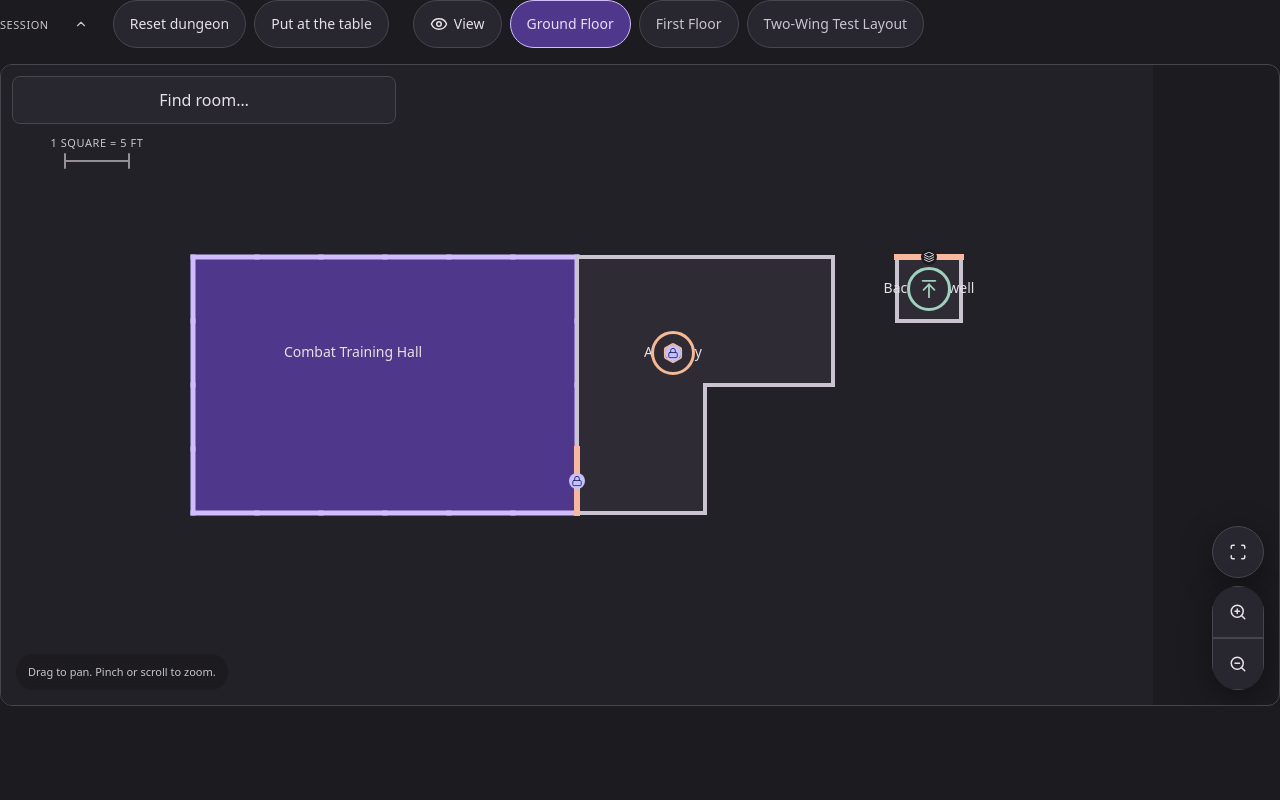
Scenario: MapLabPage (Stage 03 — viewer status chip action failures) › ConfirmDialog still appears after a reset failure
Click the button "Reset dungeon".
click(180, 24)  # box top-left (113, 0), bottom-right (246, 48)
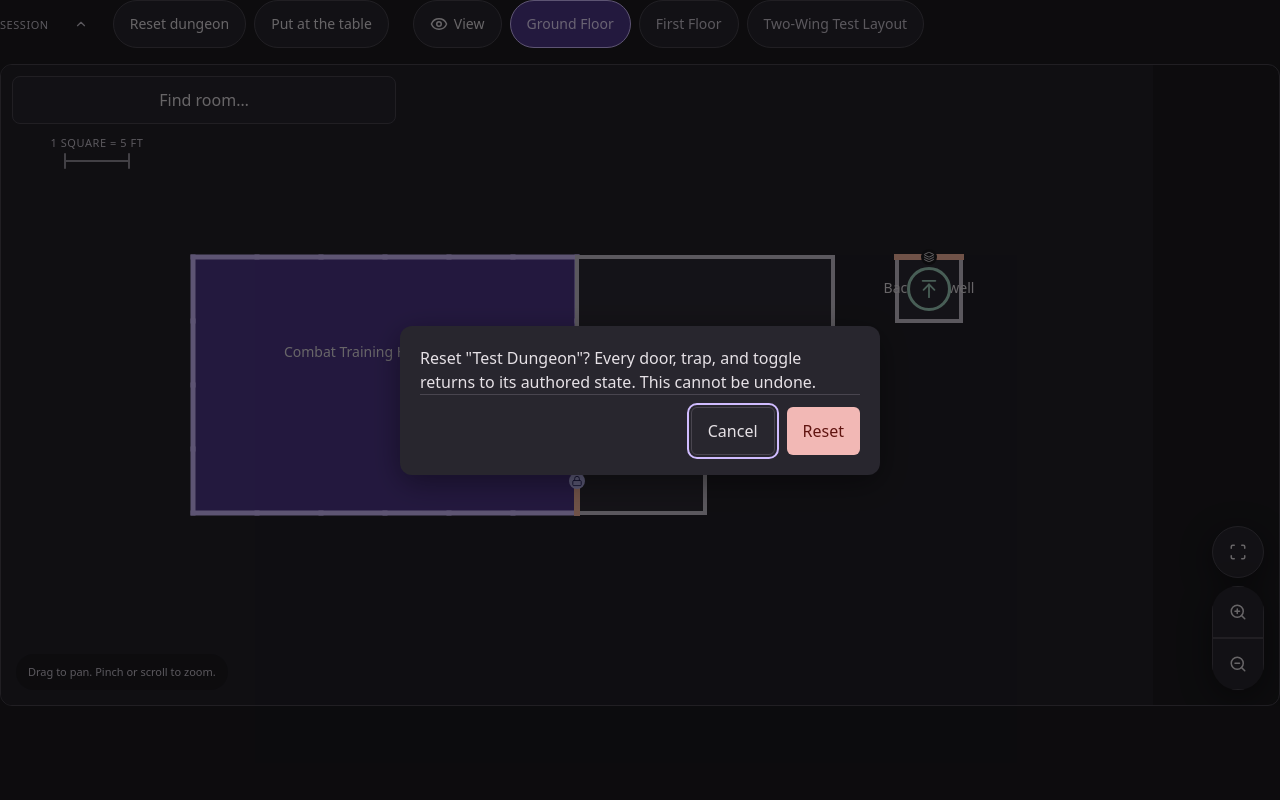
Click the button "Reset".
click(823, 430)  # box top-left (786, 406), bottom-right (860, 454)
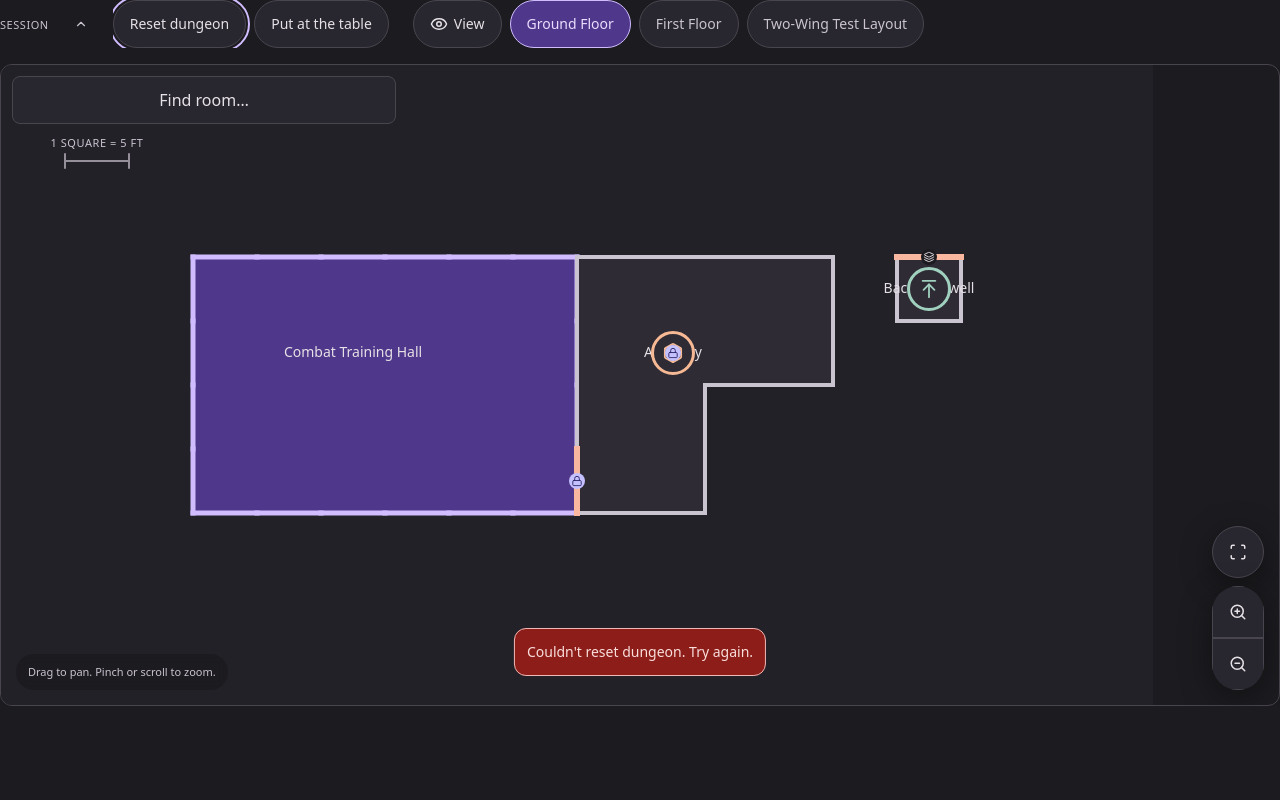
Result: the text "Couldn't reset dungeon. Try again." is shown at top-left (514, 628), bottom-right (766, 676)
Click reset again — ConfirmDialog re-appears
Click the button "Reset dungeon".
click(180, 24)  # box top-left (113, 0), bottom-right (246, 48)
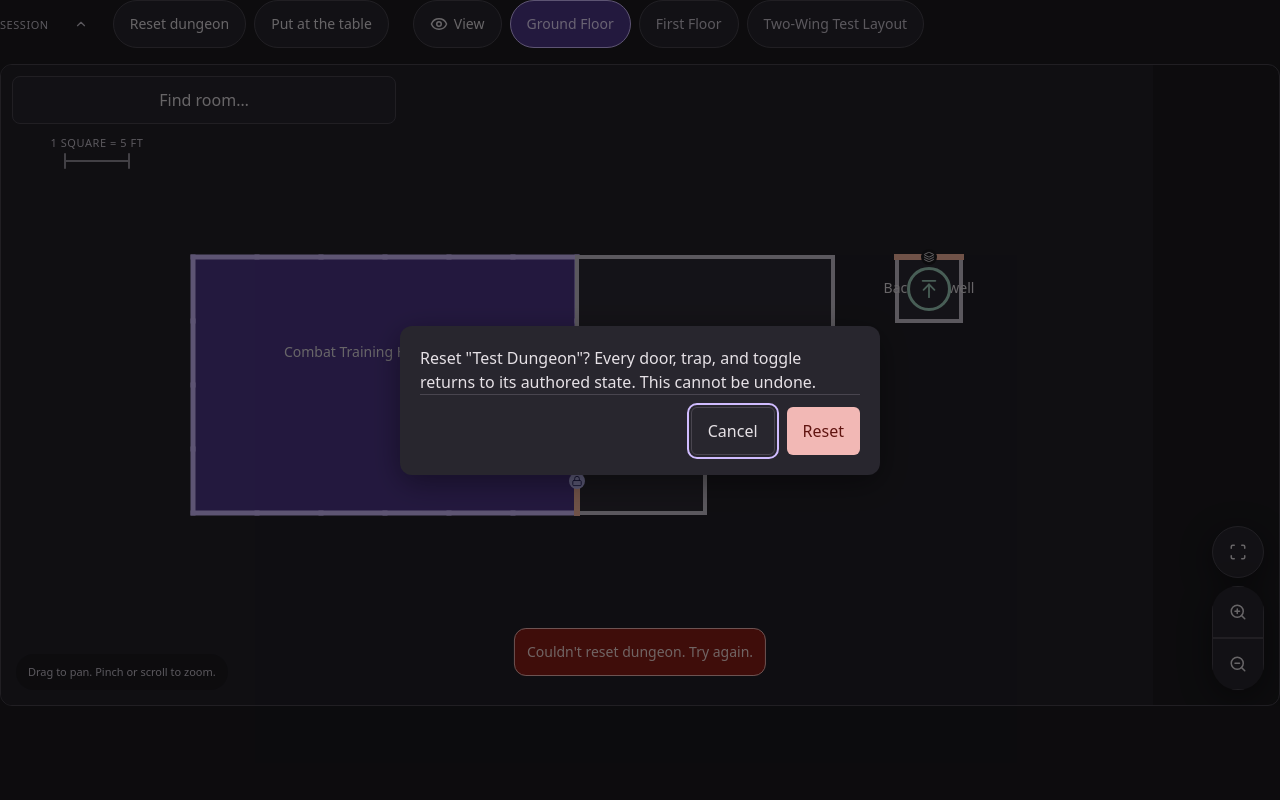
Result: the button "Reset" is shown at top-left (786, 406), bottom-right (860, 454)
